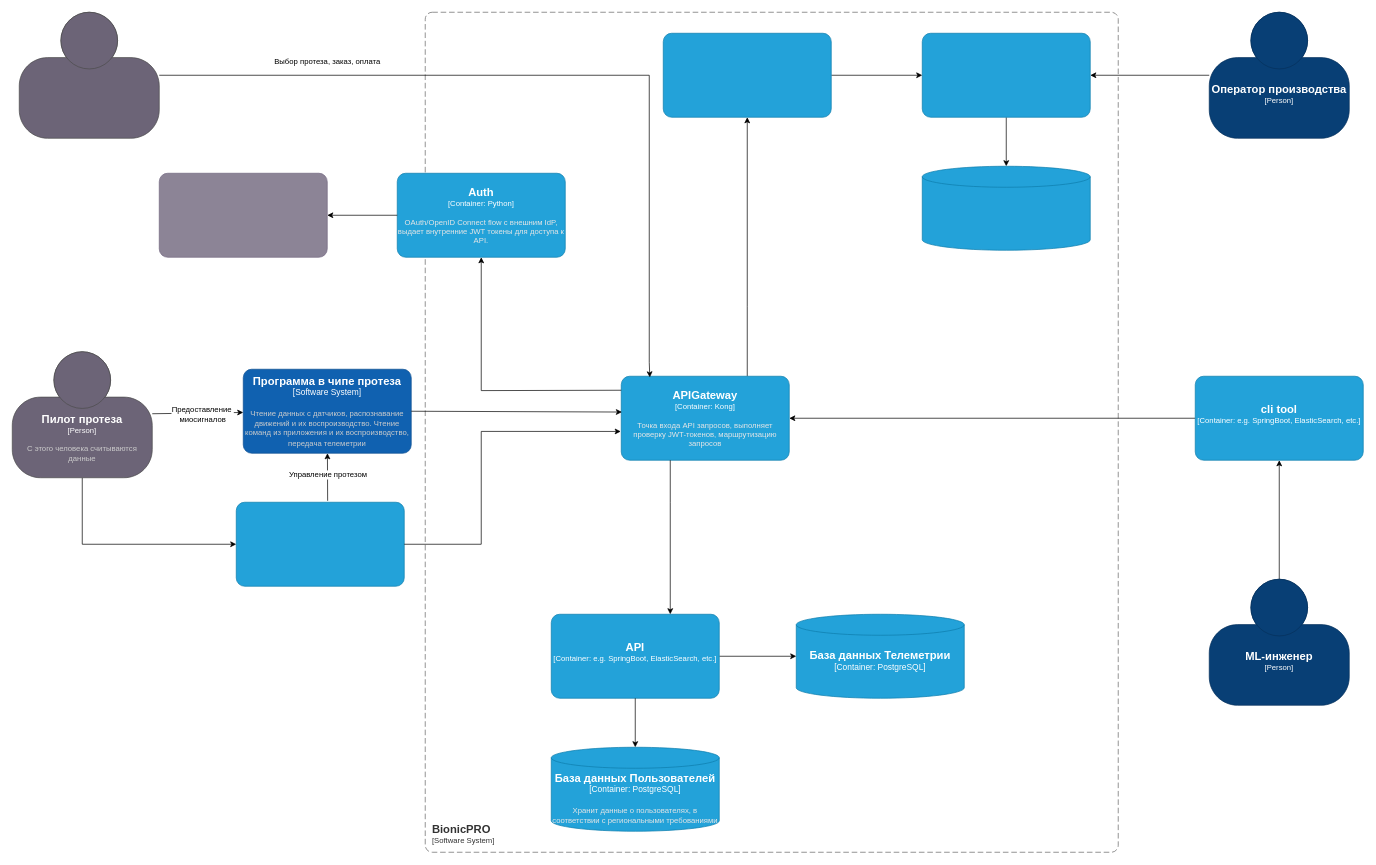
Image size: 1376x865. Some labels were removed from this diagram. The box of each missing label's shape, as (x1, y1, x2, y2) in pixels:
CRM [Container: Битрикс24]: (922, 33, 1090, 117)
CRM DB [Container: e.g. Oracle Database 12]: (922, 166, 1090, 250)
IdP [Software System] Внешние провайдеры учетных записей: (159, 173, 327, 257)
Интернет-магазин [Container: Битрикс24]: (663, 33, 831, 117)
Покупатель протеза [Person]: (19, 12, 159, 138)
Приложение для донастройки протеза [Container: iOD, Android]: (236, 502, 404, 586)
